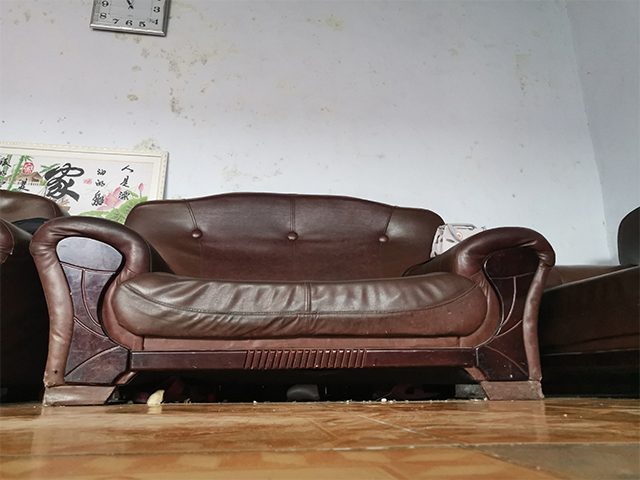sofa: (25, 187, 555, 408)
